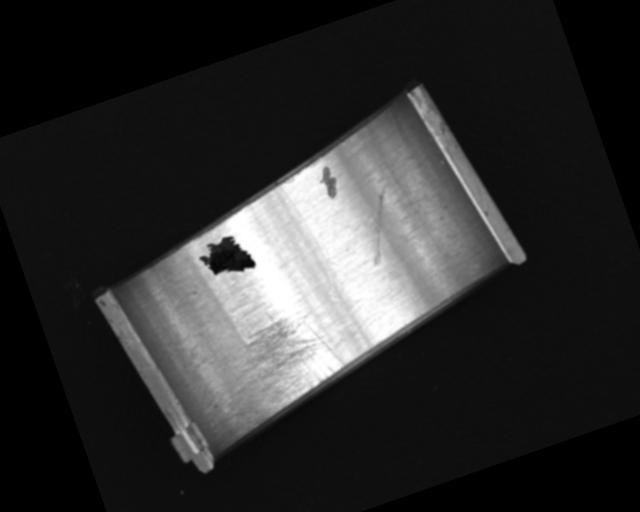blot: (193, 228, 257, 285)
bruise: (315, 162, 343, 201)
nick: (278, 180, 341, 306), (350, 184, 409, 268)
scratch: (204, 291, 357, 434)
